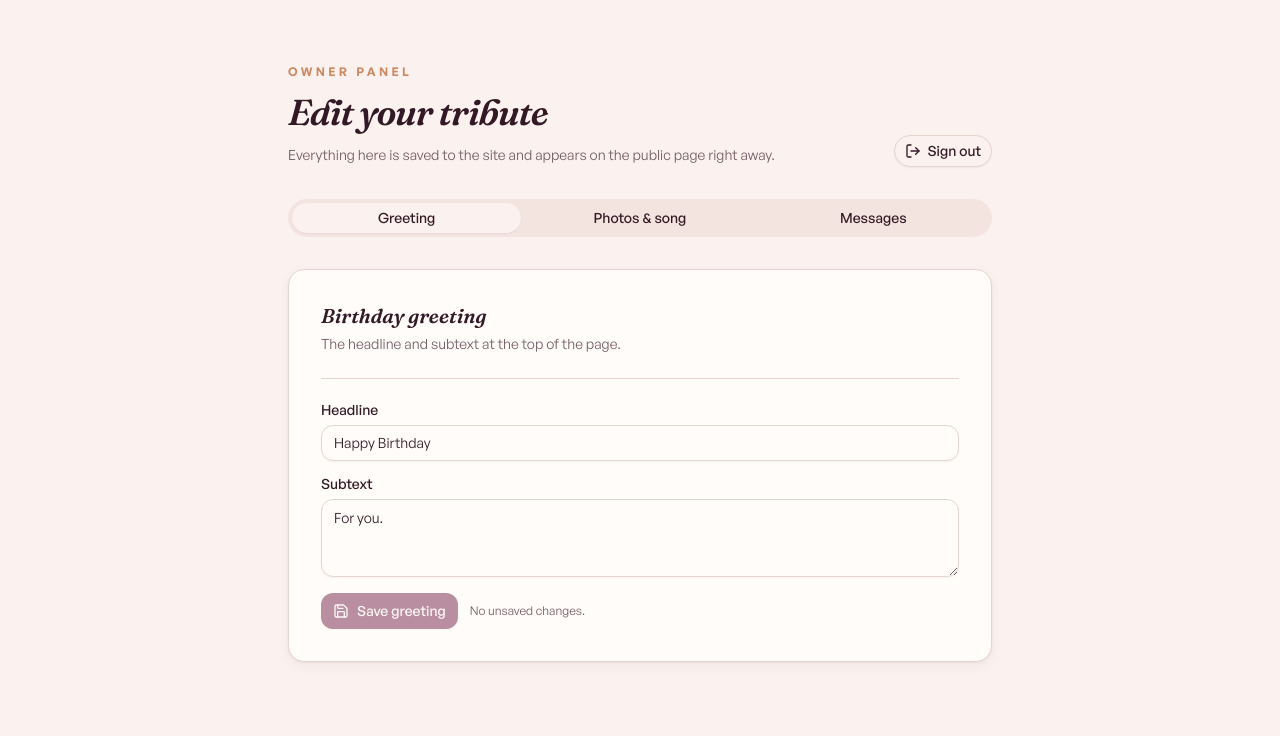
message photo preservation › persists a re-crop of an already-saved photo through setMessageCrop without wiping the photo
Click the tab with test id "admin.messages.tab" at (873, 218), box [759,203,988,233]
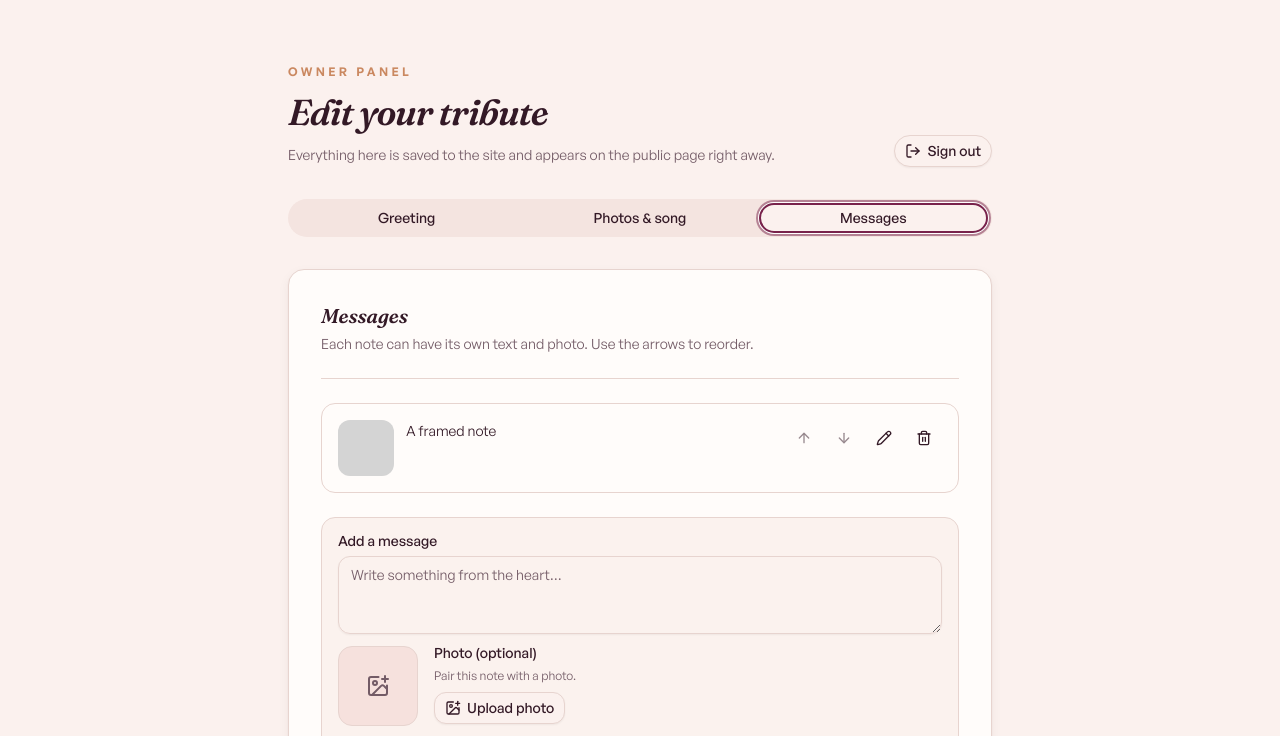
Click the button with test id "owner.message.edit_button.1" at (884, 438), box [866,420,902,456]
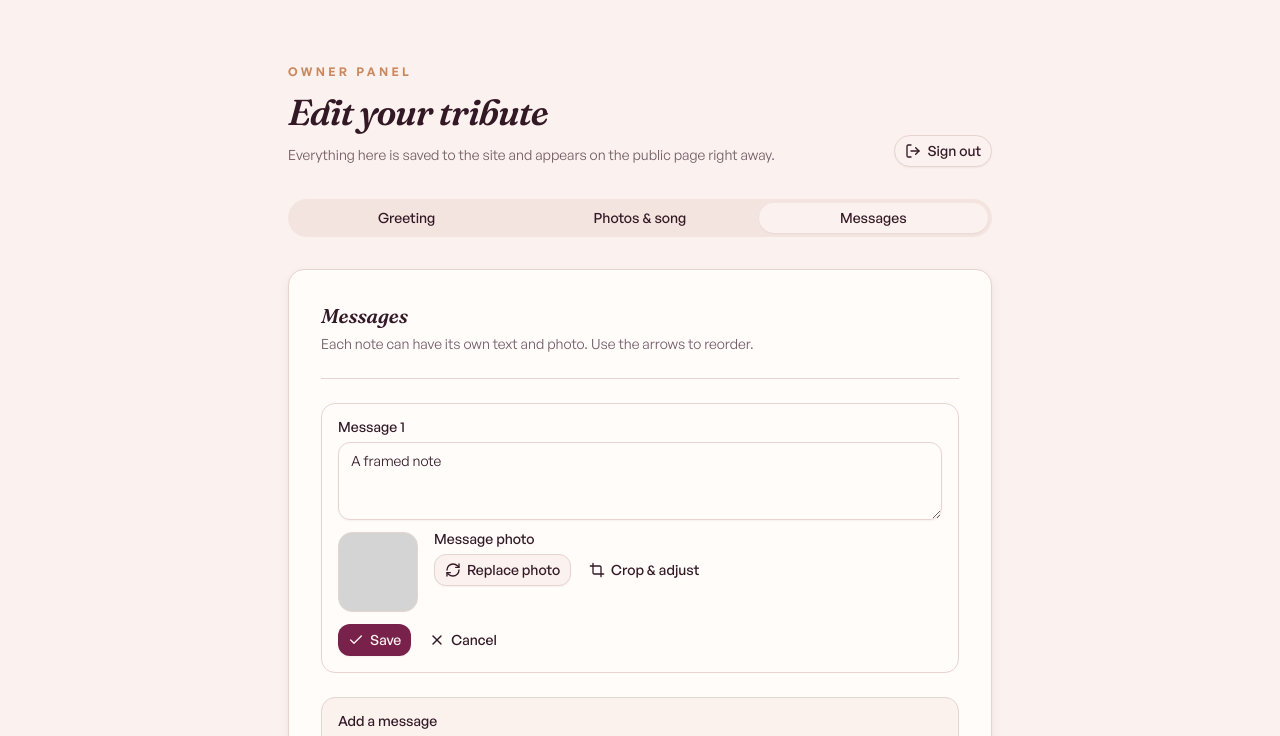
Click the button with test id "owner.message.photo.1.crop_button" at (644, 570), box [579,554,709,586]
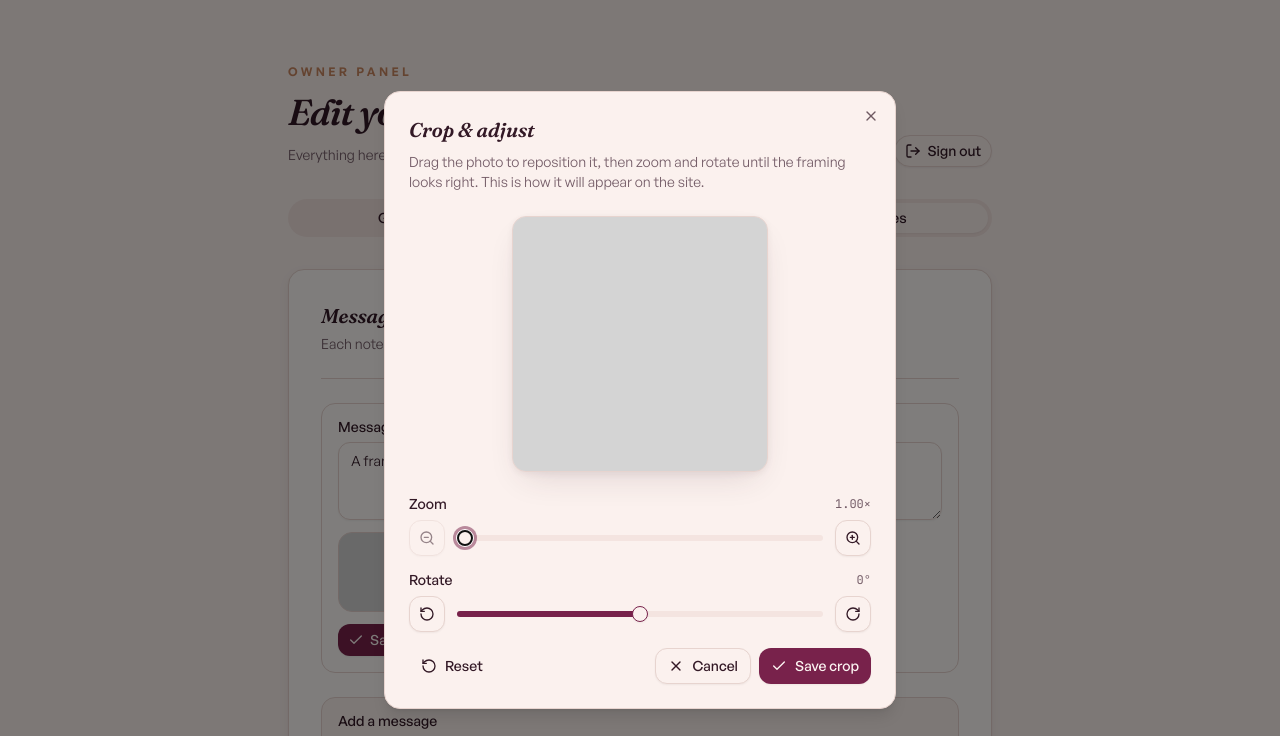
Click the button with test id "owner.message.photo.1.zoom_in_button" at (853, 538), box [835,520,871,556]
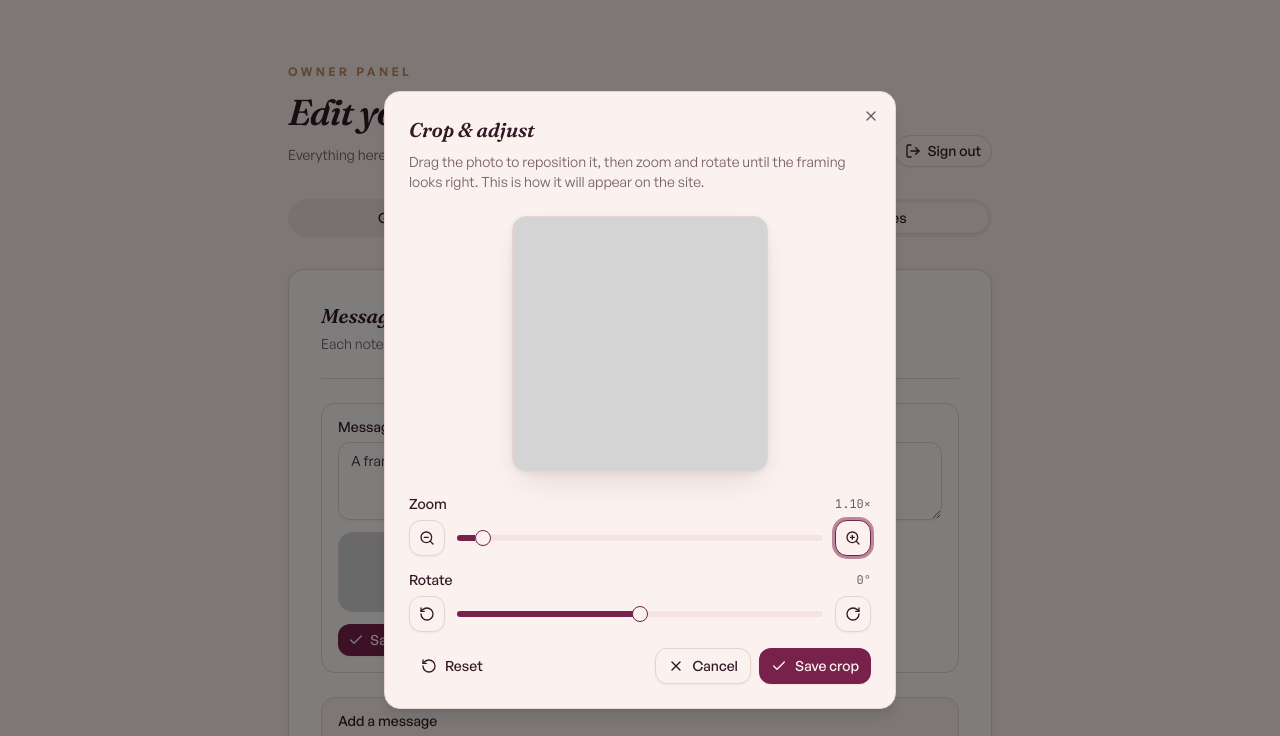
Click the button with test id "owner.message.photo.1.crop_confirm_button" at (815, 666), box [759,648,871,684]
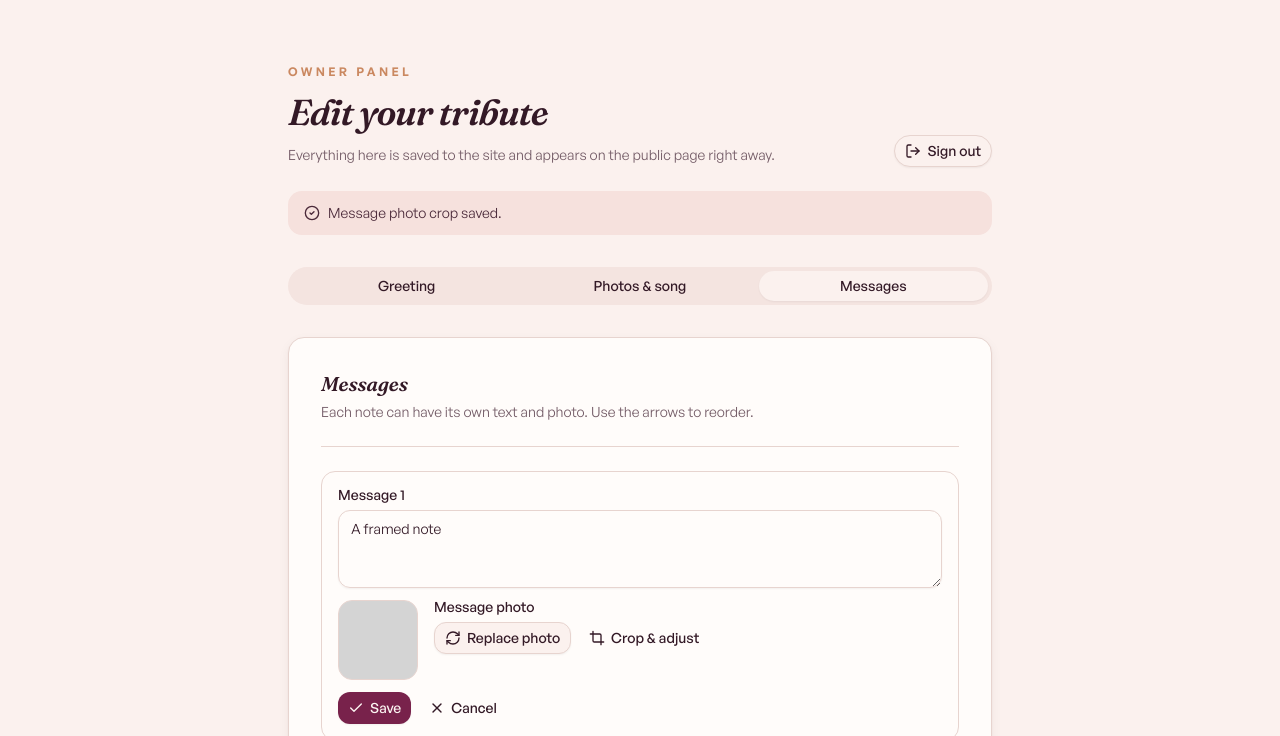
Check: the element with test id "admin.success_state" reads "Message photo crop saved.", box [328,204,502,221]
